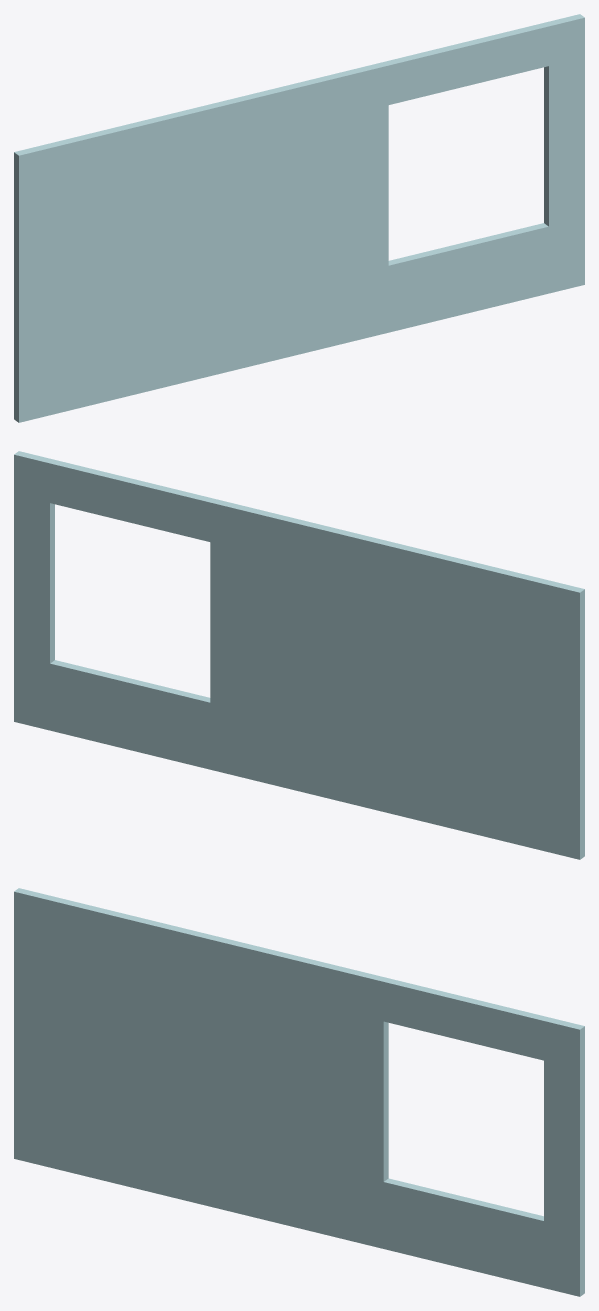
File: Wall.fbx
3 renders of one model, top to bottom at view 1: azimuth 30°, elevation 25°; view 2: azimuth 150°, elevation 25°; view 3: azimuth 330°, elevation 25°, orthographic.
Visible parts, largest first — view 1: Cube; view 2: Cube; view 3: Cube.
Part boxes in pixels (<box>): Cube: <box>14,14,584,422</box>; Cube: <box>14,451,584,859</box>; Cube: <box>14,888,584,1296</box>.
Bounding box in the file's own units: 8.38 × 0.1263 × 3.78.
